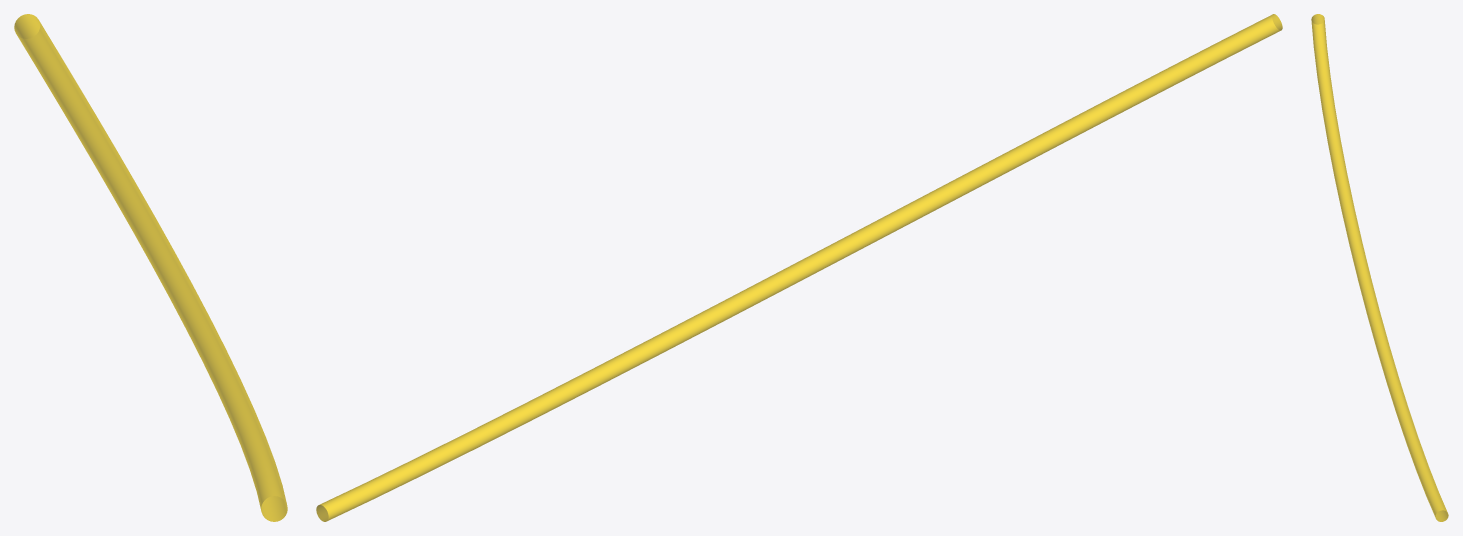
The model's file is Event_419990632_track_79.fbx.
3 renders of one model, left to right at view 1: azimuth 90°, elevation 25°; view 2: azimuth 210°, elevation 25°; view 3: azimuth 270°, elevation 25°, orthographic. The views are drawn at different scales.
Visible parts, largest first — view 1: Model; view 2: Model; view 3: Model.
Part boxes in pixels (x1,y1,x2,y2): Model: (14, 14, 287, 521); Model: (316, 14, 1282, 521); Model: (1311, 14, 1448, 521).
Size of the model in its own units: 2.63 by 0.4603 by 0.4107.
